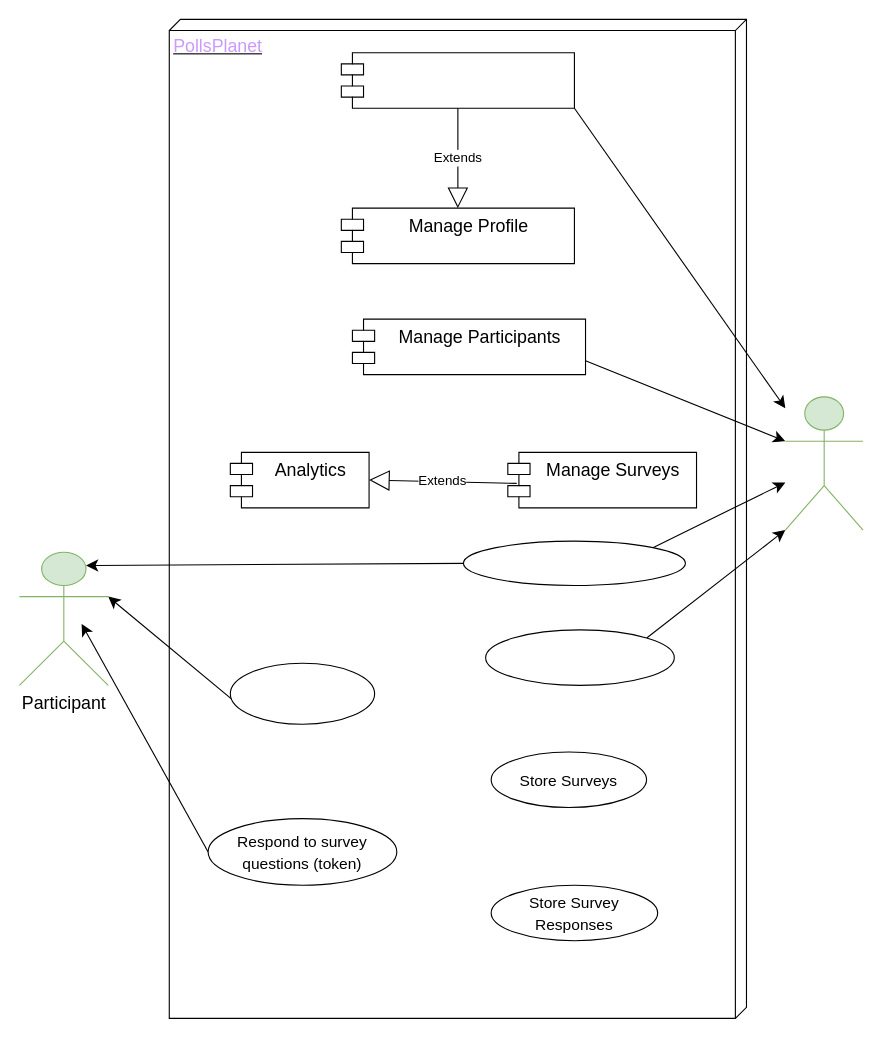
This 896x1038 diagram has some shape labels left out. The centre of each missing label's shape, as x and y in pixels:
Administrator: the point at 823,463
Authentication: the point at 457,80
Print Survey Results to PDF: the point at 573,563
Receive Survey Requests: the point at 302,693
Send Survey Requests: the point at 579,657
